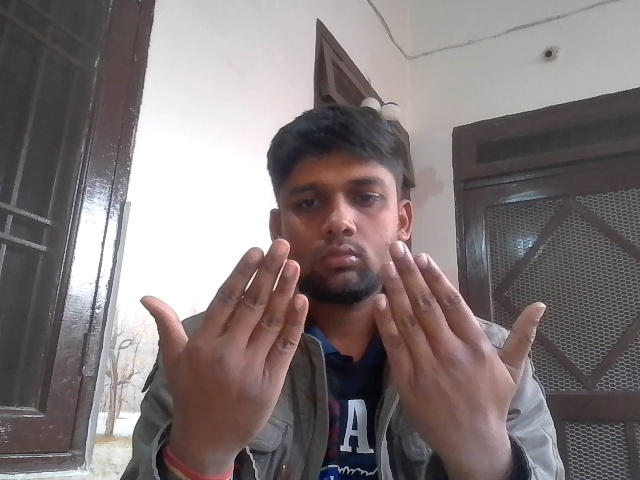ThankYou: (126, 231, 572, 461)
